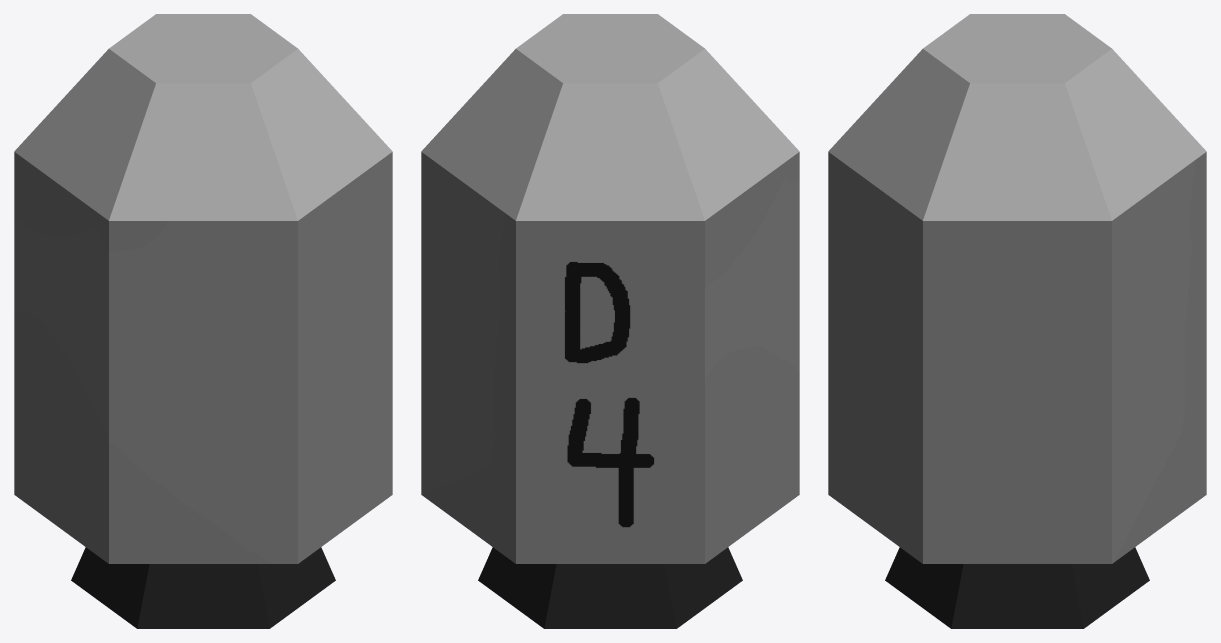
File: booster.fbx
3 views of the same model, side by side, from view 1: azimuth 30°, elevation 25°; view 2: azimuth 150°, elevation 25°; view 3: azimuth 270°, elevation 25° (orthographic).
Visible parts, largest first — view 1: Cylinder; view 2: Cylinder; view 3: Cylinder.
Boxes of the visible parts, left/top/right/bottom form: Cylinder: left=14, top=14, right=392, bottom=628; Cylinder: left=421, top=14, right=799, bottom=628; Cylinder: left=828, top=14, right=1206, bottom=628.
Bounding box in the file's own units: 1.73 × 3.1 × 2.
